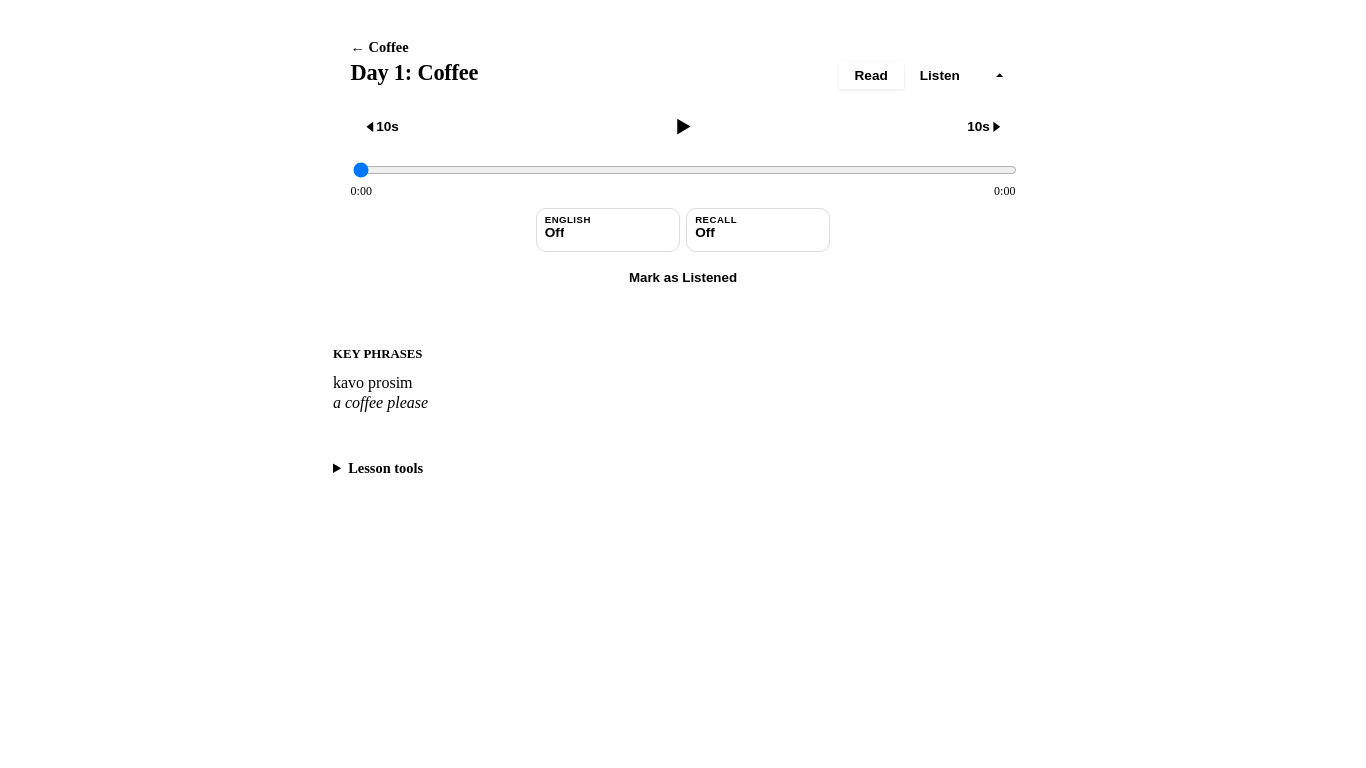
Scenario: /c/[curriculumId]/l/[lessonId] page › shows stringified error when markAsListened throws a non-Error
Step 1. Click the button "Listen" → click(940, 76), box [904,62,976,89]
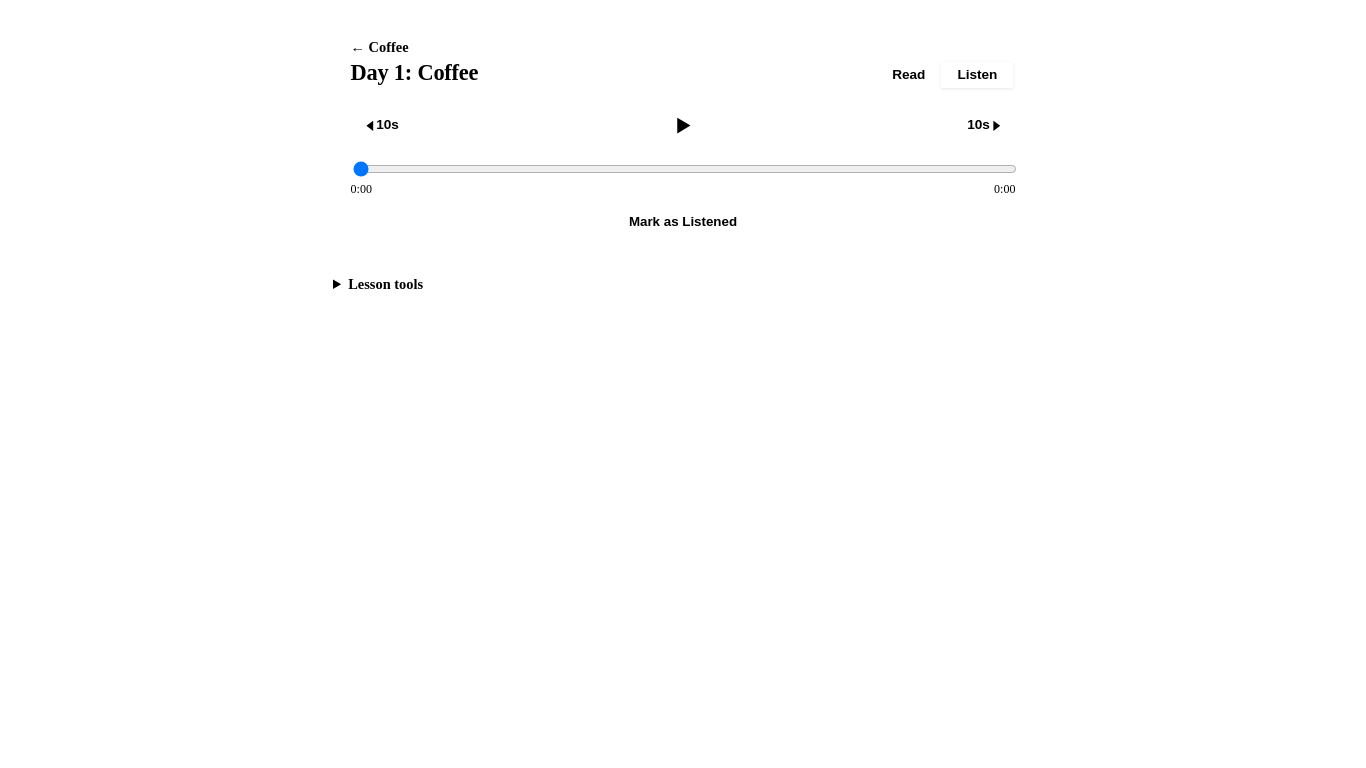
Step 2. Click the button "Mark as Listened" → click(683, 222), box [609,206,757,237]
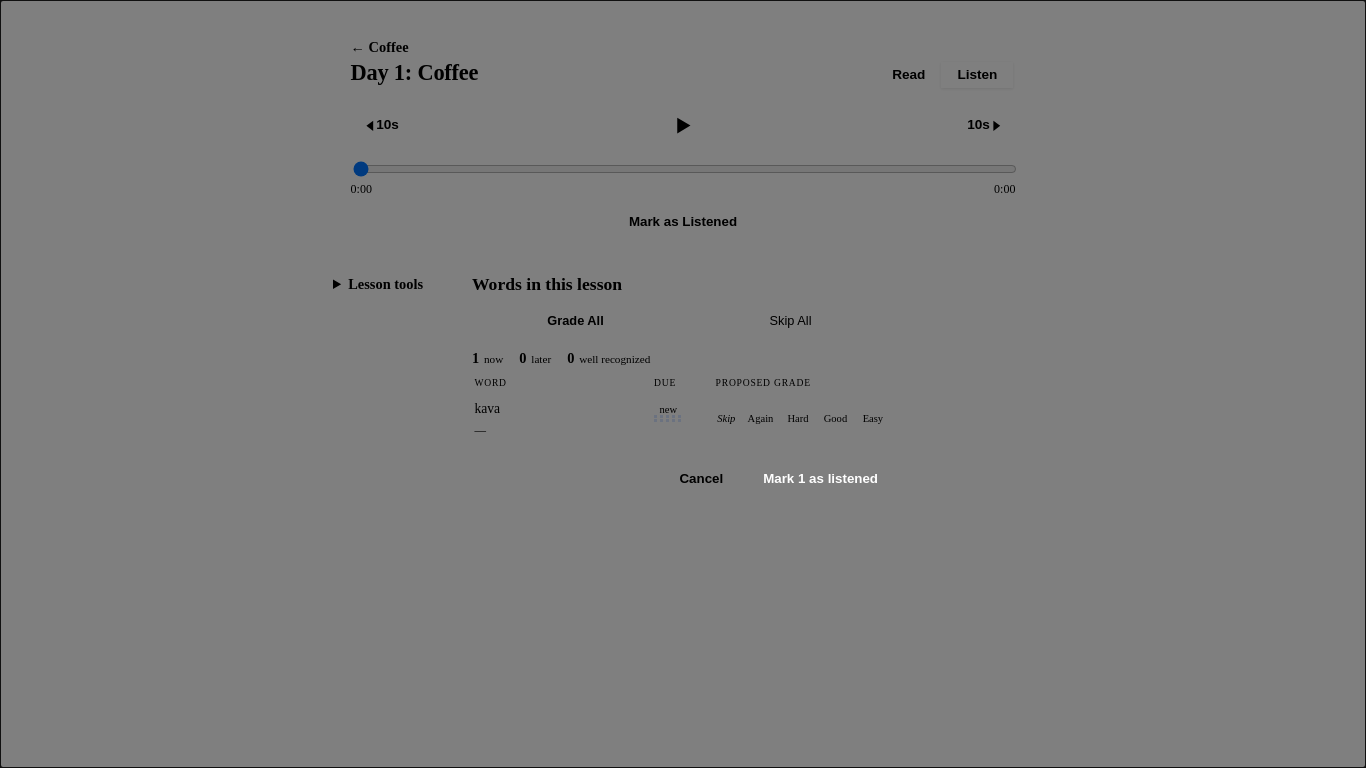
Step 3. Click the button "Mark 1 as listened" → click(821, 479), box [747,463,894,494]
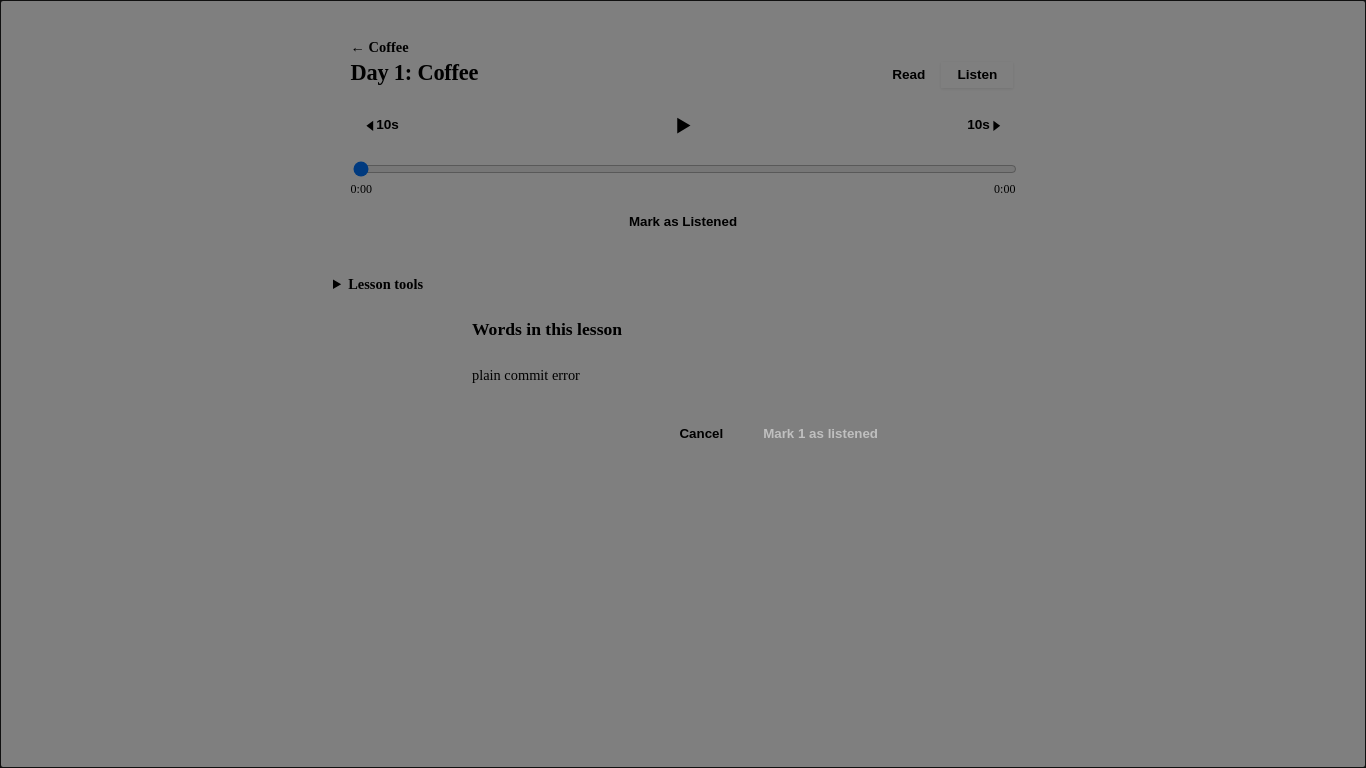
Check: the text "plain commit error" is shown, box [472,366,580,382]
